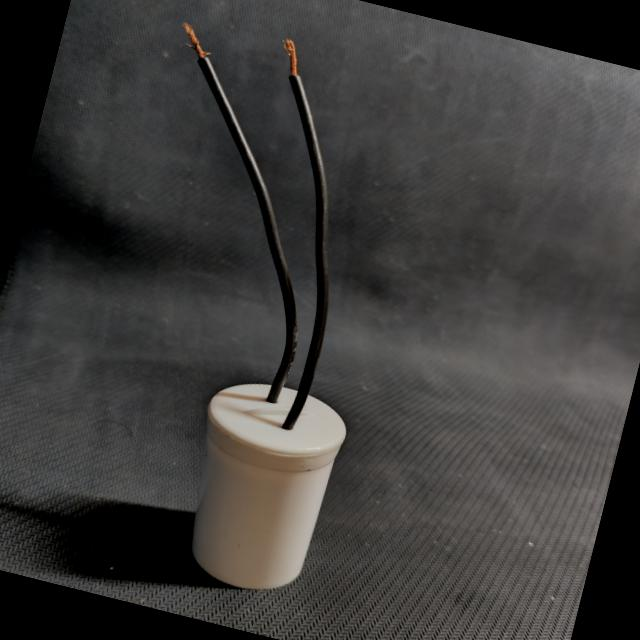capacitor: (31, 1, 456, 616)
